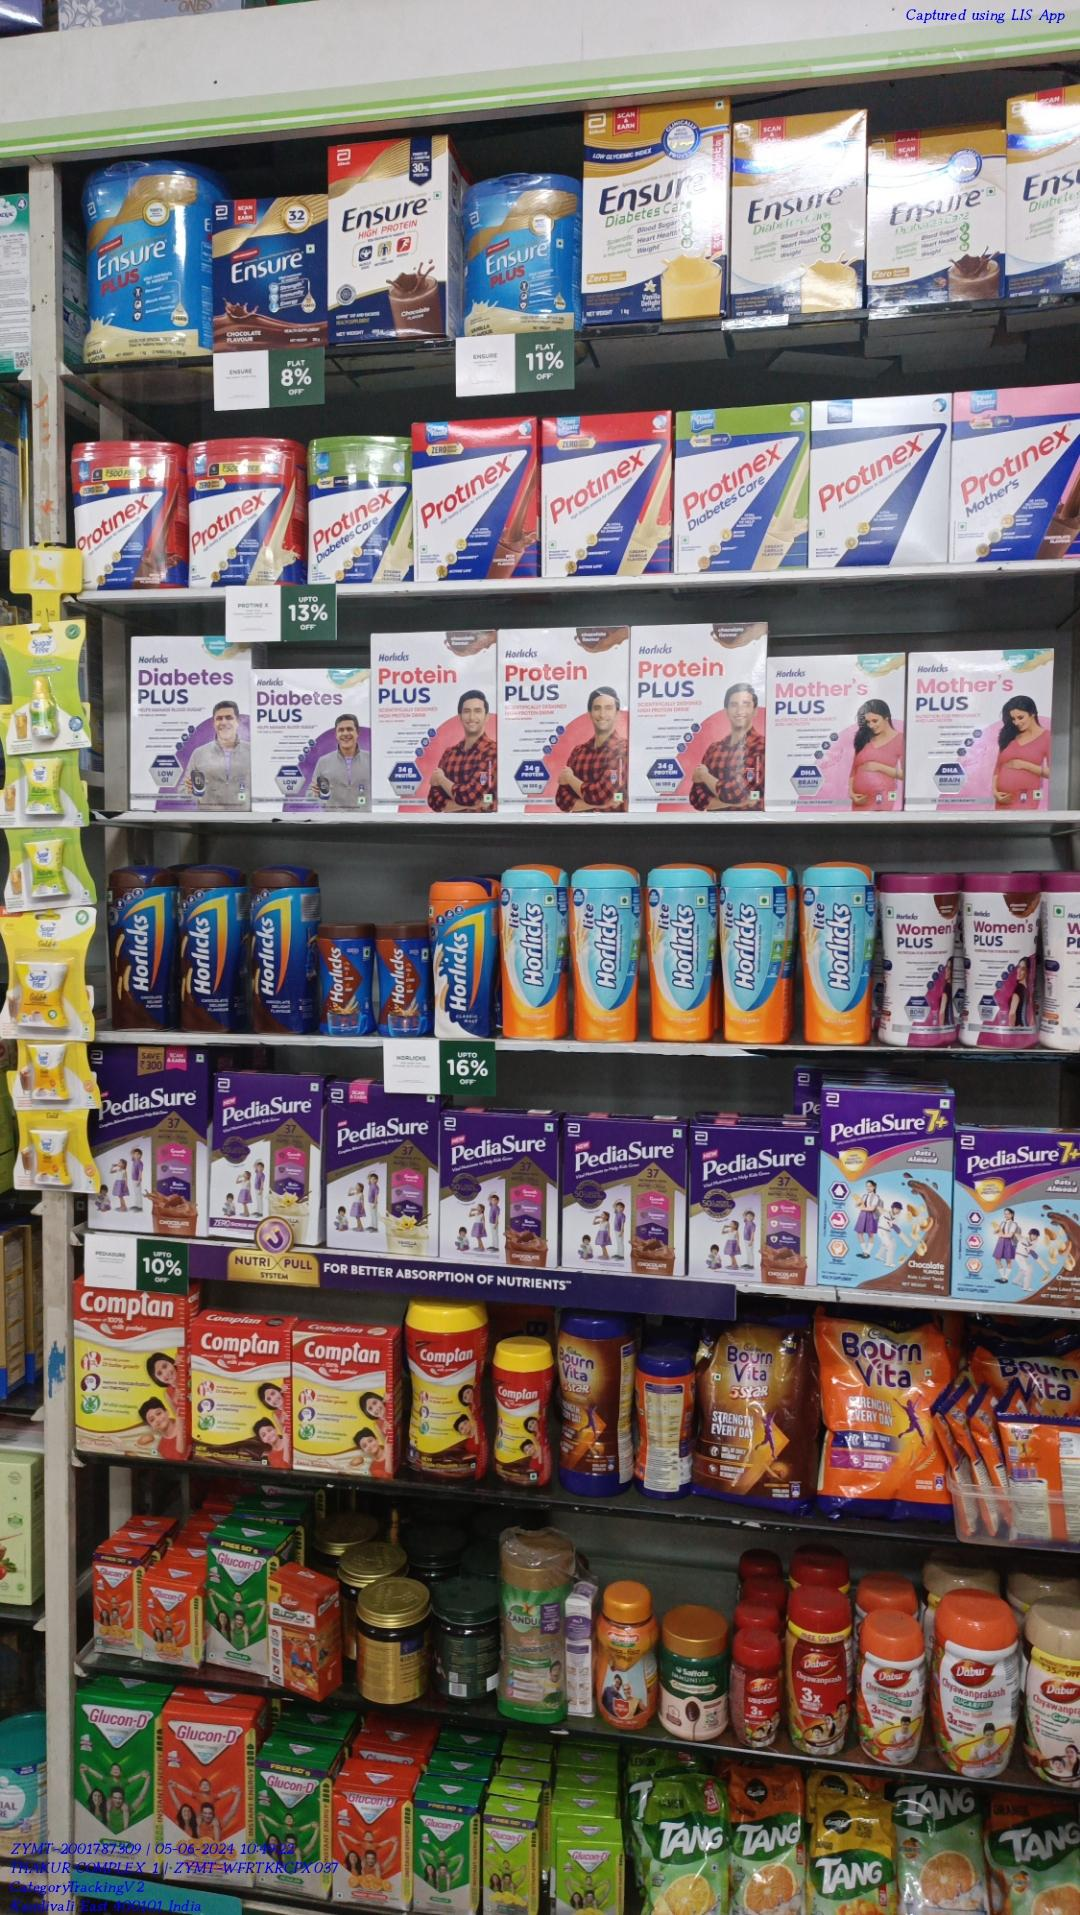BOURN_VITA_500_G_JAR: (563, 1310, 633, 1498)
BOURN_VITA_FIVE_STAR_MAGIC_750_G_POUCH: (692, 1305, 820, 1514)
COMPLAN_CHOCOLATE_200_GMS_JAR: (491, 1330, 552, 1490)
COMPLAN_CHOCOLATE_500_GMS_JAR: (405, 1298, 484, 1478)
COMPLAN_KESAR_BADAM_200_GMS_PACK: (295, 1330, 395, 1480)
HORLICKS_LITE_REGULAR_MALT_500_GM_JAR: (721, 858, 796, 1044), (800, 861, 876, 1044), (646, 858, 714, 1043), (571, 864, 641, 1039), (499, 864, 566, 1039)
HORLICK_CHOCOLATE_200_G_JAR: (317, 921, 372, 1035), (379, 923, 428, 1035)
HORLICK_CHOCOLATE_500_G_JAR: (245, 865, 316, 1034), (178, 860, 242, 1034), (109, 864, 174, 1030)
HORLICK_CLASSIC_MALT_500_G_JAR: (434, 875, 495, 1038)
PEDIASURE_7_PLUS_CHOCOLATE_400_G_PACK: (823, 1084, 948, 1293), (956, 1131, 1080, 1305)
PEDIASURE_CHOCOLATE_500_G_PACK: (87, 1042, 200, 1231), (692, 1127, 816, 1289), (210, 1071, 320, 1243), (328, 1081, 434, 1252), (563, 1119, 681, 1269), (443, 1106, 554, 1264)
PROTINEX_CHOCOLATE_400_G_JAR: (68, 441, 185, 587)
PROTINEX_VANILLA_400_G_JAR: (187, 435, 301, 589)
